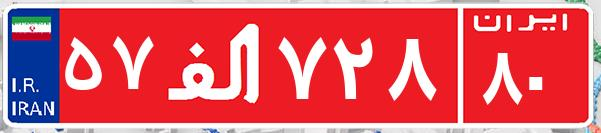0: (525, 38, 570, 115)
2: (330, 28, 385, 110)
5: (57, 26, 110, 107)
7: (273, 28, 330, 110), (110, 28, 158, 105)
8: (385, 28, 445, 110), (475, 38, 525, 113)
الف: (158, 15, 273, 115)
